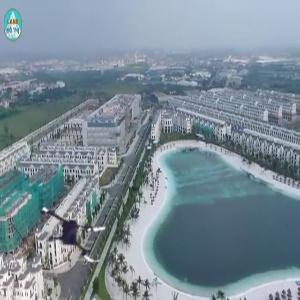drone: (37, 190, 119, 272)
